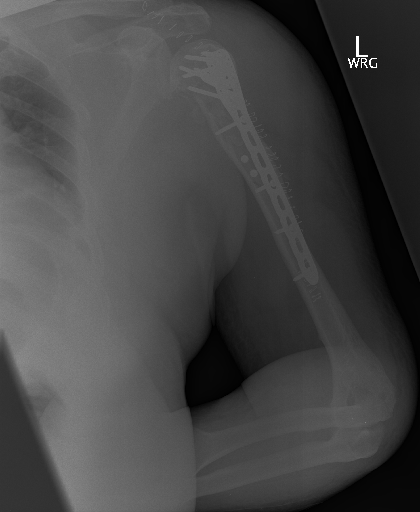implant: (252, 170, 322, 285), (177, 41, 253, 143)
